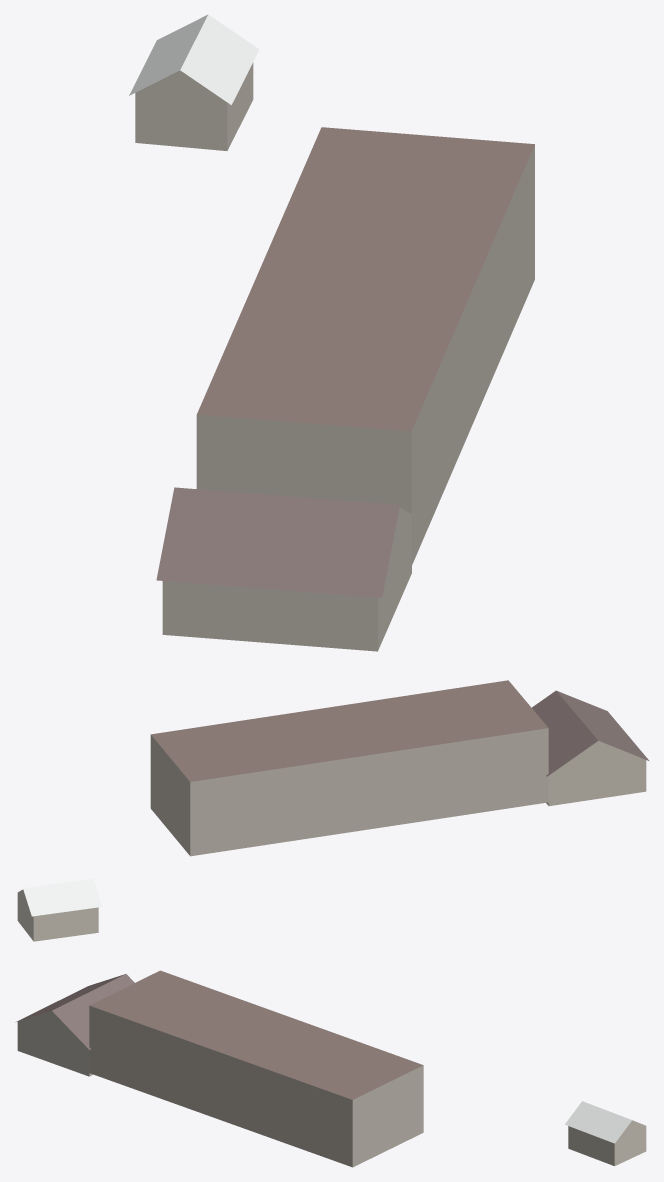
The picture shows the model from 3 angles, top to bottom: view 1: azimuth 30°, elevation 25°; view 2: azimuth 150°, elevation 25°; view 3: azimuth 270°, elevation 25°; orthographic projection. The views are drawn at different scales.
Parts seen in each view (by area): view 1: tuile; view 2: tuile; view 3: tuile.
Part boxes in pixels (bbox=[...]): tuile: bbox=[129, 14, 534, 651]; tuile: bbox=[17, 680, 649, 941]; tuile: bbox=[15, 970, 646, 1167].
Bounding box in the file's own units: 48.21 × 10.2 × 82.58.
